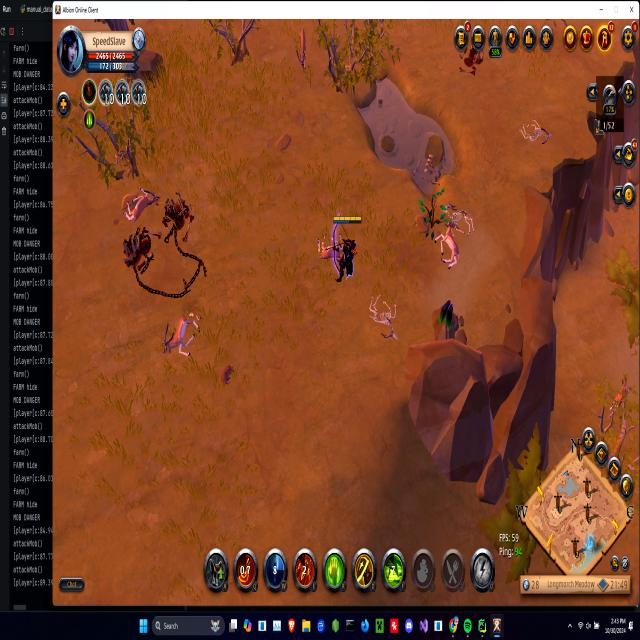mob: (160, 311, 200, 366), (430, 215, 468, 272), (120, 183, 159, 225), (311, 233, 359, 264)
ore: (608, 374, 630, 420), (295, 26, 312, 74)
player: (434, 294, 462, 343)
red: (331, 213, 361, 284)
